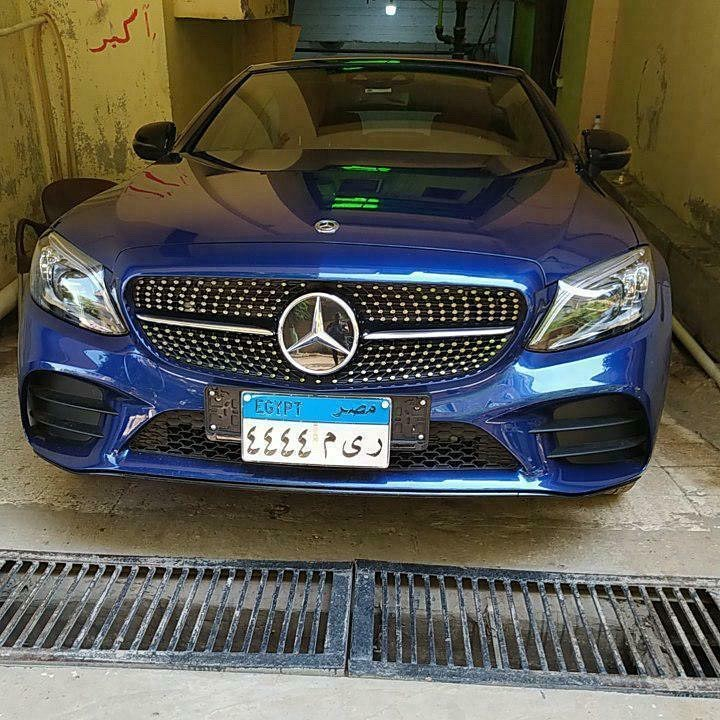carpl: (239, 418, 390, 463)
